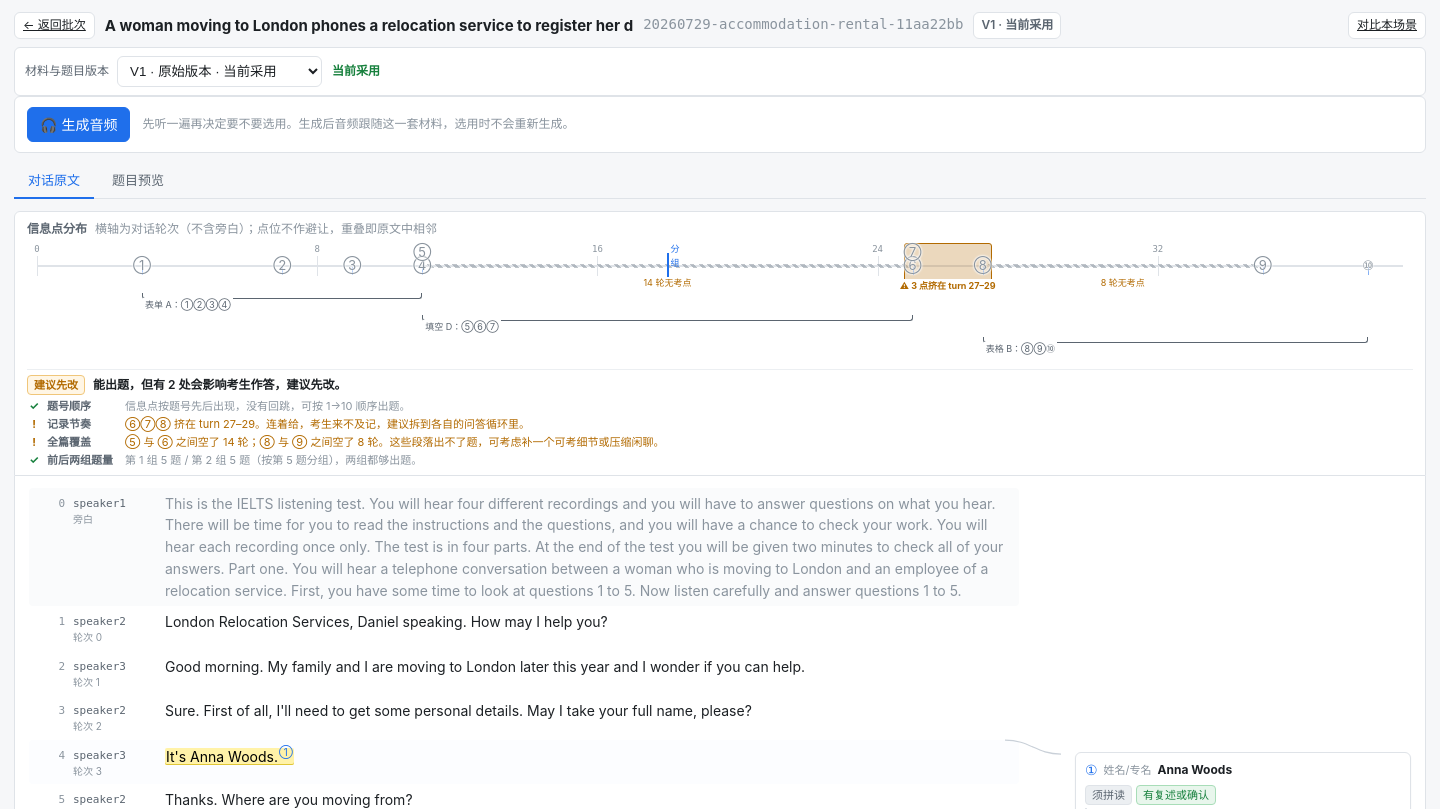
Test case: MaterialPage 页签 › 有题时画出真实版式，答案默认隐藏
Click the tab "题目预览" at (138, 181), box [98,163,178,199]
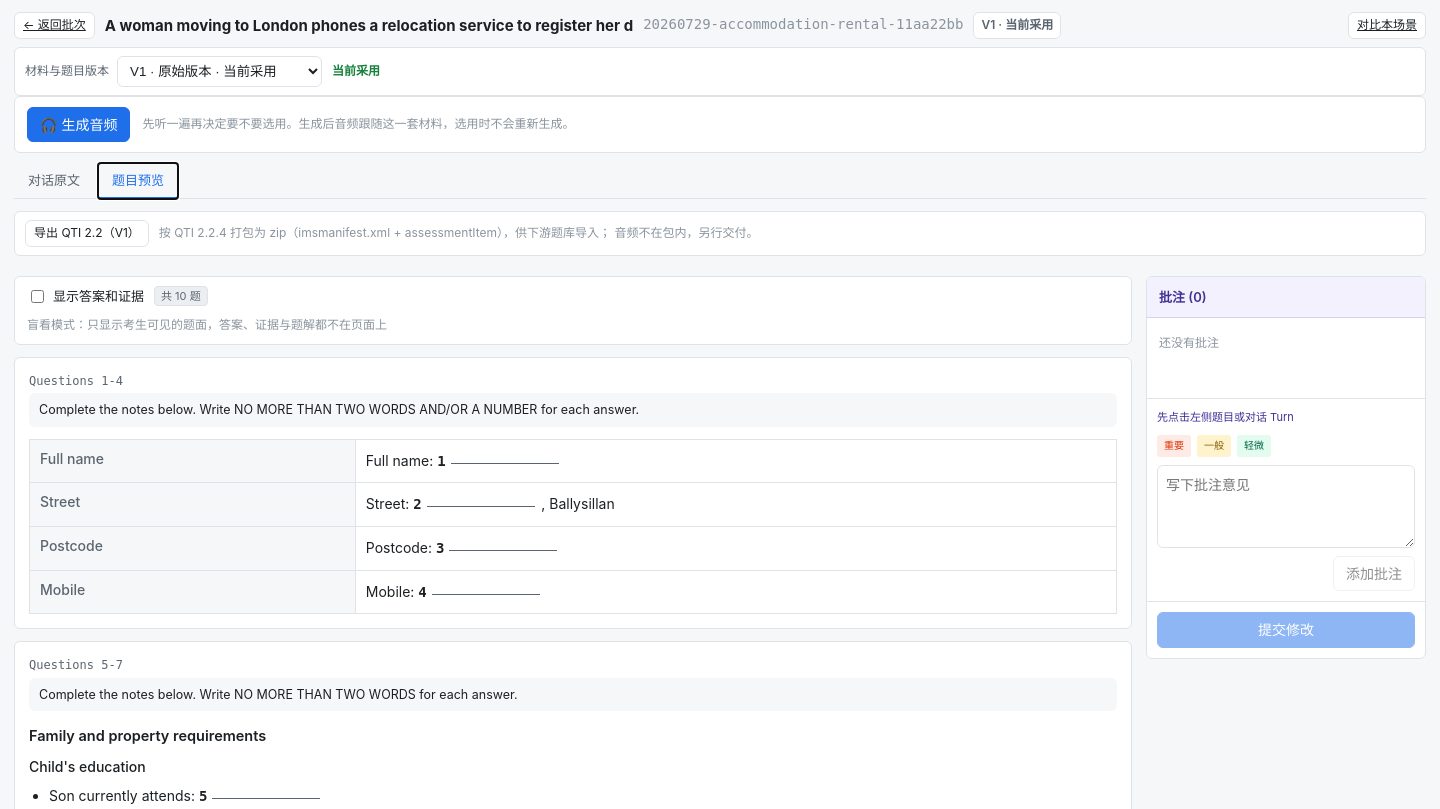
Expected: the checkbox labelled "显示答案和证据" is not checked, [31,290,44,303]
